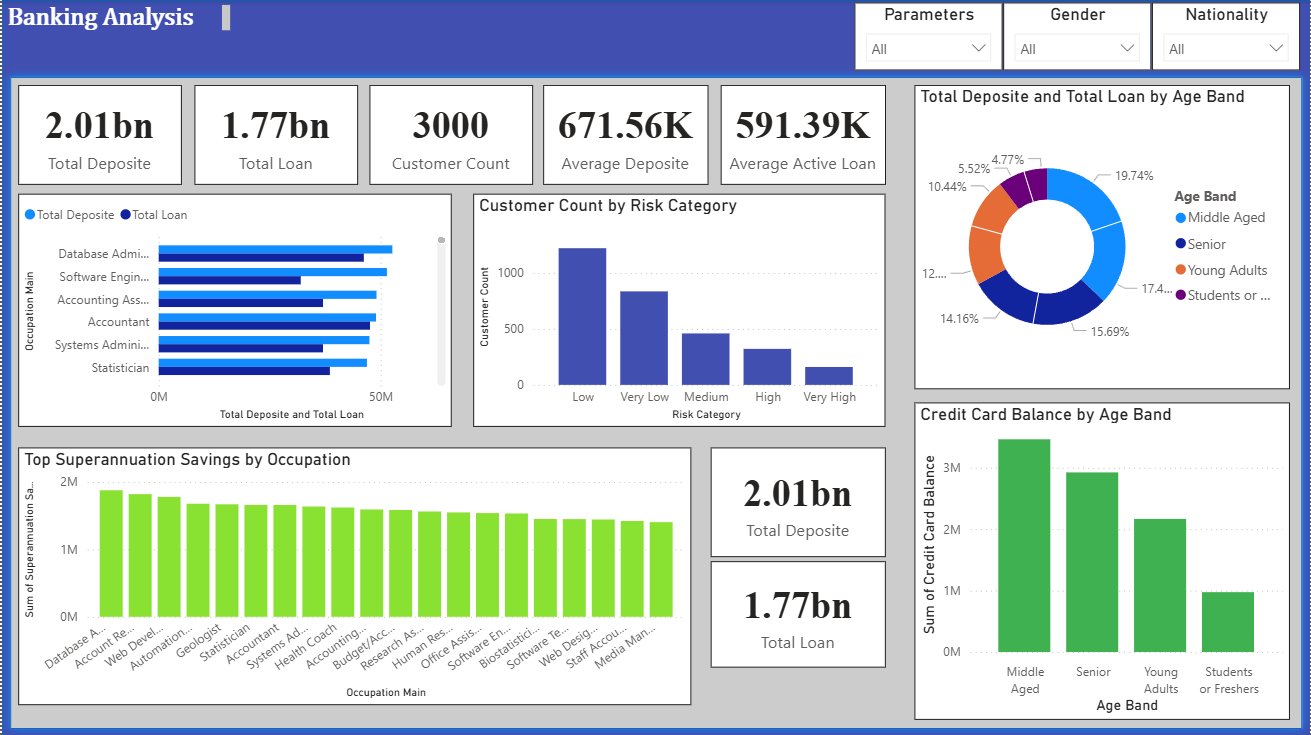

The dashboard page shown, as its layout file describes it:
{"tool":"powerbi","page":{"name":"Dashboard","canvas":[1280,720],"ordinal":0},"visuals":[{"type":"shape","box":[0,0,1280.3,720.2],"z":0},{"type":"shape","box":[0,66.8,1280,653.9],"z":1000},{"type":"textbox","box":[0,0,228.2,36.2],"z":2000},{"type":"card","fields":{"Values":["Measure.Total Deposite"]},"box":[15.3,83.5,160,97.4],"z":3000},{"type":"slicer","title":"Nationality","fields":{"Values":["Banking.Nationality"]},"box":[1125.6,2.8,144.7,66.8],"z":4000},{"type":"slicer","title":"Gender","fields":{"Values":["gender.Gender"]},"box":[979.5,2.8,144.7,66.8],"z":5000},{"type":"slicer","title":"Parameters","fields":{"Values":["Parameter 2.Parameter"]},"box":[833.4,2.8,144.7,66.8],"z":6000},{"type":"card","fields":{"Values":["Measure.Total Loan"]},"box":[187.8,83.5,160,97.4],"z":7000},{"type":"card","fields":{"Values":["Measure.Customer Count"]},"box":[359,83.5,160,97.4],"z":8000},{"type":"card","fields":{"Values":["Measure.Average Deposite"]},"box":[530.1,83.5,161.4,97.4],"z":9000},{"type":"card","fields":{"Values":["Measure.Average Active Loan"]},"box":[702.6,83.5,161.4,97.4],"z":10000},{"type":"donutChart","fields":{"Y":["Measure.Total Deposite","Measure.Total Loan"],"Category":["Banking.Age Band"]},"box":[893.2,83.5,367.3,297.7],"z":11000},{"type":"clusteredColumnChart","title":"Credit Card Balance by Age Band","fields":{"Y":["Sum(Banking.Credit Card Balance)"],"Category":["Banking.Age Band"]},"box":[893.2,393.7,367.3,310.3],"z":12000},{"type":"clusteredBarChart","title":"Total Bank Loan by Occupation","fields":{"Y":["Measure.Total Deposite","Measure.Total Loan"],"Category":["Banking.Occupation Main"]},"box":[15.3,189.2,424.3,228.2],"z":13000},{"type":"clusteredColumnChart","fields":{"Y":["Measure.Customer Count"],"Category":["Banking.Custom"]},"box":[460.5,189.2,403.5,228.2],"z":14000},{"type":"clusteredColumnChart","title":"Top Superannuation Savings by Occupation","fields":{"Category":["Banking.Occupation Main"],"Y":["Sum(Banking.Superannuation Savings)"]},"box":[15.3,438.3,658.1,251.8],"z":15000},{"type":"card","fields":{"Values":["Measure.Total Deposite"]},"box":[692.9,438.3,171.1,107.1],"z":16000},{"type":"card","fields":{"Values":["Measure.Total Loan"]},"box":[692.9,549.6,171.1,104.3],"z":17000}]}

Visuals, with their boxes in screenshot pixels (x1, y1, x2, y2), scaled from the page's 1280x720 canvas onto the 1311x735 screenshot:
shape: 0, 0, 1310, 734
shape: 0, 68, 1310, 734
textbox: 0, 0, 234, 37
card - Measure.Total Deposite: 16, 85, 180, 185
"Nationality" slicer: 1153, 3, 1301, 71
"Gender" slicer: 1003, 3, 1151, 71
"Parameters" slicer: 854, 3, 1002, 71
card - Measure.Total Loan: 192, 85, 356, 185
card - Measure.Customer Count: 368, 85, 532, 185
card - Measure.Average Deposite: 543, 85, 708, 185
card - Measure.Average Active Loan: 720, 85, 885, 185
donutChart - Measure.Total Deposite x Measure.Total Loan: 915, 85, 1291, 389
"Credit Card Balance by Age Band" clusteredColumnChart: 915, 402, 1291, 719
"Total Bank Loan by Occupation" clusteredBarChart: 16, 193, 450, 426
clusteredColumnChart - Measure.Customer Count x Banking.Custom: 472, 193, 885, 426
"Top Superannuation Savings by Occupation" clusteredColumnChart: 16, 447, 690, 704
card - Measure.Total Deposite: 710, 447, 885, 557
card - Measure.Total Loan: 710, 561, 885, 668
